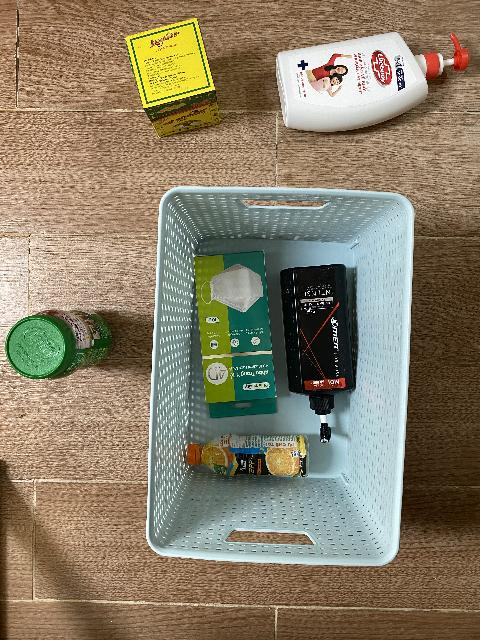4D_medical_face-mask: (193, 250, 277, 419)
X-men: (280, 264, 354, 443)
cart: (146, 186, 415, 567)
life-buoy: (276, 32, 470, 133)
luong_kho: (125, 18, 221, 139)
milo: (5, 309, 112, 380)
teppy_orange_juice: (187, 434, 310, 477)
